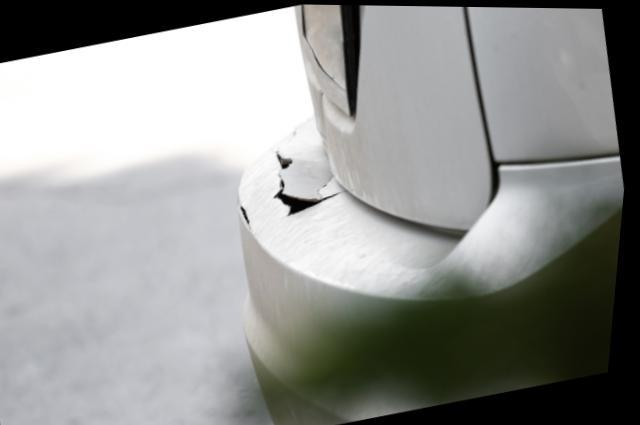crack: (278, 149, 357, 215), (299, 3, 346, 90), (242, 203, 255, 227)
